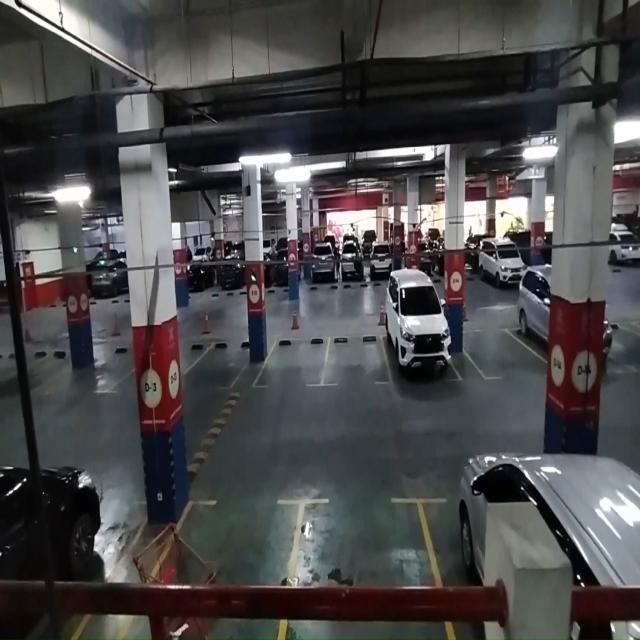empty: (284, 496, 445, 588), (465, 325, 536, 381), (326, 333, 390, 387), (261, 336, 326, 389), (192, 334, 245, 388)
occupied: (386, 312, 459, 386)
